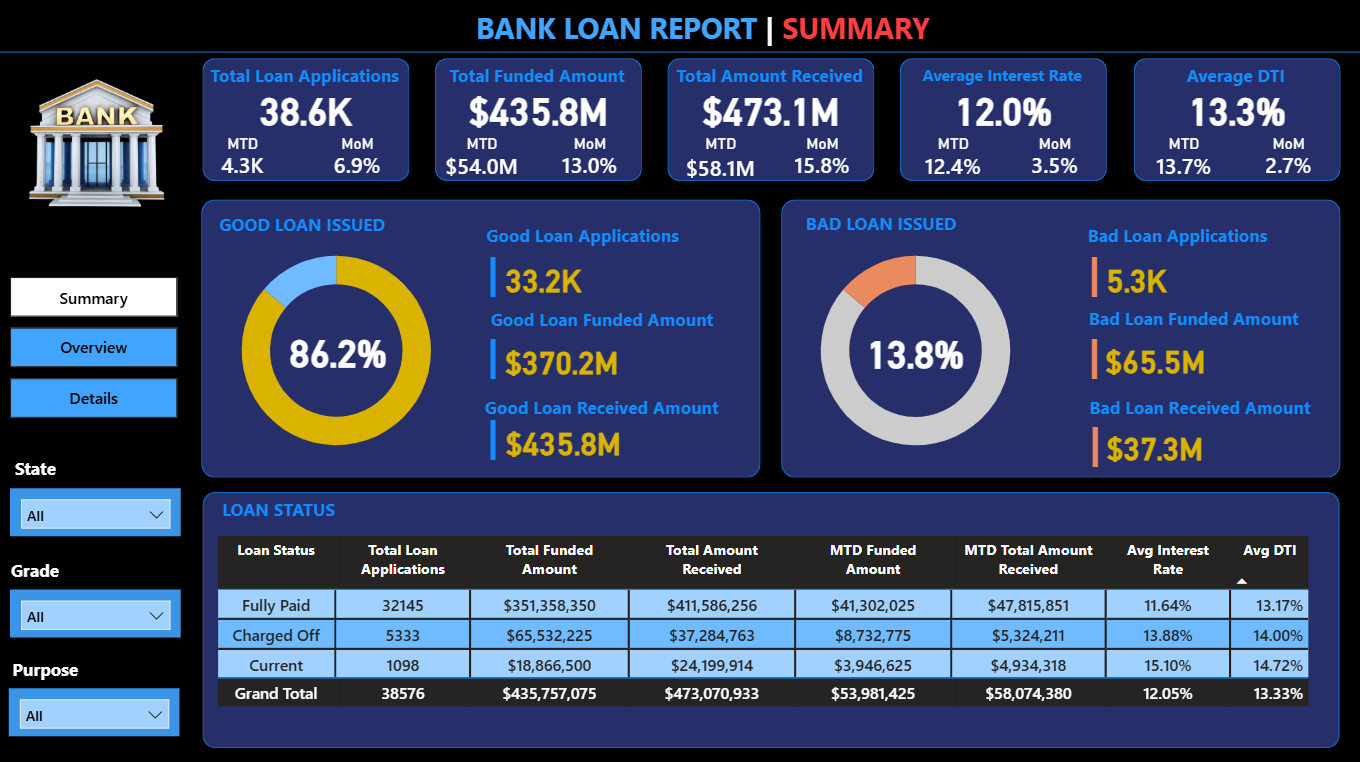

Layout of this report page (visuals, bound fields, positions):
{"tool":"powerbi","page":{"name":"Summary","canvas":[1280,720],"ordinal":0},"visuals":[{"type":"shape","box":[0,52.1,181.3,668.1],"z":0},{"type":"advanceCardE03760C5AB684758B56AA29F9E6C257B","fields":{"mainMeasure":["Bank_Loan_Data.Bad Loan Applications"]},"box":[1022.8,240.9,95.3,47],"z":0,"group":"g7"},{"type":"shape","box":[0,0,1280,51.9],"z":1000},{"type":"advanceCardE03760C5AB684758B56AA29F9E6C257B","fields":{"mainMeasure":["Bank_Loan_Data.Bad Loan Funded Amount"]},"box":[1020.4,314.5,137.5,50.7],"z":1000,"group":"g7"},{"type":"textbox","box":[427.1,6,466.9,45.8],"z":2000},{"type":"advanceCardE03760C5AB684758B56AA29F9E6C257B","fields":{"mainMeasure":["Bank_Loan_Data.Bad Loan Received Amount"]},"box":[1020.4,397.8,139.9,49.5],"z":2000,"group":"g7"},{"type":"group","id":"g1","title":"Group 1","box":[171.3,56.7,235.3,114.6],"z":3000},{"type":"textbox","box":[994.6,226,62.1,62.1],"z":3000,"group":"g7"},{"type":"group","id":"g2","title":"Group 1","box":[388.5,56.9,234.8,115.6],"z":4000},{"type":"textbox","box":[994.6,303,62.1,62.1],"z":4000,"group":"g7"},{"type":"group","id":"g3","title":"Group 1","box":[605.3,56.9,234.8,119.5],"z":5000},{"type":"textbox","box":[994.6,384.9,63.3,62.1],"z":5000,"group":"g7"},{"type":"group","id":"g4","title":"Group 1","box":[822,56.9,234.8,117.1],"z":6000},{"type":"textbox","box":[998.3,206.1,209.9,38.5],"z":6000,"group":"g7"},{"type":"shape","box":[193.6,57,193,114.6],"z":6500,"group":"g1"},{"type":"shape","box":[410.8,57.2,193,114.6],"z":6500,"group":"g2"},{"type":"shape","box":[627.6,57.2,193,114.6],"z":6500,"group":"g3"},{"type":"shape","box":[844.3,57.2,193,114.6],"z":6500,"group":"g4"},{"type":"shape","box":[1061.9,57.2,193,114.6],"z":6500,"group":"g5"},{"type":"card","fields":{"Values":["Bank_Loan_Data.Total Loan Applications"]},"box":[216.2,75.9,146.2,53.9],"z":6750,"group":"g1"},{"type":"card","fields":{"Values":["Bank_Loan_Data.Total Funded Amount"]},"box":[433.4,76.1,146.2,53.9],"z":6750,"group":"g2"},{"type":"card","fields":{"Values":["Bank_Loan_Data.Total Amount Received"]},"box":[650.2,76.1,146.2,53.9],"z":6750,"group":"g3"},{"type":"card","fields":{"Values":["Bank_Loan_Data.Avg Interest Rate"]},"box":[866.9,76.1,146.2,53.9],"z":6750,"group":"g4"},{"type":"card","fields":{"Values":["Bank_Loan_Data.Avg DTI"]},"box":[1084.5,76.1,146.2,53.9],"z":6750,"group":"g5"},{"type":"textbox","box":[171.3,56.7,234.8,37.2],"z":7000,"group":"g1"},{"type":"textbox","box":[388.5,56.9,234.8,37.2],"z":7000,"group":"g2"},{"type":"textbox","box":[605.3,56.9,234.8,37.2],"z":7000,"group":"g3"},{"type":"textbox","box":[822,56.9,234.8,37.2],"z":7000,"group":"g4"},{"type":"textbox","box":[1039.6,56.9,234.8,37.2],"z":7000,"group":"g5"},{"type":"shape","box":[192,189.3,521.6,259.5],"z":7000},{"type":"textbox","box":[1010.7,283.1,214.8,38.5],"z":7000,"group":"g7"},{"type":"card","title":"MoM","fields":{"Values":["Bank_Loan_Data.MoM Loan Applications"]},"box":[302.1,127.2,72.4,44.3],"z":7500,"group":"g1"},{"type":"card","title":"MoM","fields":{"Values":["Bank_Loan_Data.MoM Total Funded Amount"]},"box":[519.3,127.4,72.4,44.3],"z":7500,"group":"g2"},{"type":"card","title":"MoM","fields":{"Values":["Bank_Loan_Data.MoM Total Amount Received"]},"box":[736.1,127.4,72.4,44.3],"z":7500,"group":"g3"},{"type":"card","title":"MoM","fields":{"Values":["Bank_Loan_Data.MoM Avg Interest Rate"]},"box":[952.8,127.4,72.4,44.3],"z":7500,"group":"g4"},{"type":"card","title":"MoM","fields":{"Values":["Bank_Loan_Data.MoM Avg DTI"]},"box":[1170.4,127.4,72.4,44.3],"z":7500,"group":"g5"},{"type":"group","id":"g5","title":"Group 1","box":[1039.6,56.9,234.8,117.1],"z":8000},{"type":"card","title":"MTD","fields":{"Values":["Bank_Loan_Data.MTD Loan Applications"]},"box":[197.3,127.2,67.9,44.3],"z":8000,"group":"g1"},{"type":"card","title":"MTD","fields":{"Values":["Bank_Loan_Data.MTD Funded Amount"]},"box":[414.6,127.5,80.8,45],"z":8000,"group":"g2"},{"type":"card","title":"MTD","fields":{"Values":["Bank_Loan_Data.MTD Amount Received"]},"box":[636.3,128.2,80.8,48.3],"z":8000,"group":"g3"},{"type":"card","title":"MTD","fields":{"Values":["Bank_Loan_Data.MTD Avg Interest Rate"]},"box":[853.4,128.2,80.8,45.8],"z":8000,"group":"g4"},{"type":"card","title":"MTD","fields":{"Values":["Bank_Loan_Data.MTD Avg DTI"]},"box":[1065.4,128.2,86.9,45.8],"z":8000,"group":"g5"},{"type":"textbox","box":[1008.3,366.3,231,38.5],"z":8000,"group":"g7"},{"type":"shape","box":[733.5,189.3,521.6,259.5],"z":9000},{"type":"donutChart","fields":{"Category":["Bank_Loan_Data.Good vs Bad Loan"],"Y":["Bank_Loan_Data.Total Loan Applications"]},"box":[193.9,214.7,250,230.8],"z":10000},{"type":"card","fields":{"Values":["Bank_Loan_Data.Good Loan %"]},"box":[246.8,302.9,145.8,54.5],"z":11000},{"type":"textbox","box":[193.9,195.5,185.9,38.5],"z":12000},{"type":"donutChart","fields":{"Category":["Bank_Loan_Data.Good vs Bad Loan"],"Y":["Bank_Loan_Data.Total Loan Applications"]},"box":[733.9,214.8,250.8,231],"z":13000},{"type":"advanceCardE03760C5AB684758B56AA29F9E6C257B","fields":{"mainMeasure":["Bank_Loan_Data.Good Loan Applications"]},"box":[470.2,240.9,97.7,47],"z":13000,"group":"g6"},{"type":"textbox","box":[733.9,195,186.3,38.5],"z":14000},{"type":"advanceCardE03760C5AB684758B56AA29F9E6C257B","fields":{"mainMeasure":["Bank_Loan_Data.Good Loan Funded Amount"]},"box":[470.2,314.5,136.3,51.9],"z":14000,"group":"g6"},{"type":"card","fields":{"Values":["Bank_Loan_Data.Bad Loan %"]},"box":[786,303,145.3,54.6],"z":15000},{"type":"advanceCardE03760C5AB684758B56AA29F9E6C257B","fields":{"mainMeasure":["Bank_Loan_Data.Good Loan Received Amount"]},"box":[470.2,384.5,137.5,62.7],"z":15000,"group":"g6"},{"type":"group","id":"g6","title":"Group 2","box":[433.6,206.1,253.1,241.1],"z":16000},{"type":"textbox","box":[433.6,303.2,61.8,61.8],"z":16000,"group":"g6"},{"type":"textbox","box":[433.6,378.7,61.8,61.8],"z":17000,"group":"g6"},{"type":"shape","box":[193,462.1,1060.5,238.9],"z":17000},{"type":"group","id":"g7","title":"Group 3","box":[994.6,206.1,244.6,241.1],"z":18000},{"type":"textbox","box":[433.6,226.4,61.8,61.8],"z":18000,"group":"g6"},{"type":"textbox","box":[443.3,206.1,209.9,38.5],"z":19000,"group":"g6"},{"type":"tableEx","fields":{"Values":["Bank_Loan_Data.loan_status","Bank_Loan_Data.Total Loan Applications","Bank_Loan_Data.Total Funded Amount","Bank_Loan_Data.Total Amount Received","Bank_Loan_Data.MTD Funded Amount","Bank_Loan_Data.MTD Amount Received","Bank_Loan_Data.Avg Interest Rate","Bank_Loan_Data.Avg DTI"]},"box":[201.5,498.3,1037.5,187],"z":19000},{"type":"textbox","box":[449.5,284.3,232.2,38.5],"z":20000,"group":"g6"},{"type":"textbox","box":[199.9,461.9,130.4,38.5],"z":20000},{"type":"textbox","box":[445.8,366.3,240.9,38.5],"z":21000,"group":"g6"},{"type":"slicer","fields":{"Values":["Bank_Loan_Data.address_state"]},"box":[14.5,458.4,159.2,44.6],"z":21000},{"type":"textbox","box":[8.4,423.5,59.1,38.6],"z":22000},{"type":"slicer","fields":{"Values":["Bank_Loan_Data.grade"]},"box":[14.5,552.5,159.2,44.6],"z":23000},{"type":"textbox","box":[2.4,518.8,70,38.6],"z":24000},{"type":"slicer","fields":{"Values":["Bank_Loan_Data.purpose"]},"box":[13.3,644.2,159.2,44.6],"z":25000},{"type":"textbox","box":[3.6,610.5,86.9,38.6],"z":26000},{"type":"image","box":[0,51.9,187,176.1],"z":27000},{"type":"pageNavigator","box":[14.5,260.6,156.8,131.5],"z":28000}]}

Visuals, with their boxes in screenshot pixels (x1, y1, x2, y2), scaled from the page's 1280x720 canvas onto the 1360x762 screenshot:
shape: x1=0 y1=55 x2=193 y2=761
advanceCardE03760C5AB684758B56AA29F9E6C257B - Bank_Loan_Data.Bad Loan Applications: x1=1087 y1=255 x2=1188 y2=305
shape: x1=0 y1=0 x2=1359 y2=55
advanceCardE03760C5AB684758B56AA29F9E6C257B - Bank_Loan_Data.Bad Loan Funded Amount: x1=1084 y1=333 x2=1230 y2=387
textbox: x1=454 y1=6 x2=950 y2=55
advanceCardE03760C5AB684758B56AA29F9E6C257B - Bank_Loan_Data.Bad Loan Received Amount: x1=1084 y1=421 x2=1233 y2=473
"Group 1" group: x1=182 y1=60 x2=432 y2=181
textbox: x1=1057 y1=239 x2=1123 y2=305
"Group 1" group: x1=413 y1=60 x2=662 y2=183
textbox: x1=1057 y1=321 x2=1123 y2=386
"Group 1" group: x1=643 y1=60 x2=893 y2=187
textbox: x1=1057 y1=407 x2=1124 y2=473
"Group 1" group: x1=873 y1=60 x2=1123 y2=184
textbox: x1=1061 y1=218 x2=1284 y2=259
shape: x1=206 y1=60 x2=411 y2=182
shape: x1=436 y1=61 x2=642 y2=182
shape: x1=667 y1=61 x2=872 y2=182
shape: x1=897 y1=61 x2=1102 y2=182
shape: x1=1128 y1=61 x2=1333 y2=182
card - Bank_Loan_Data.Total Loan Applications: x1=230 y1=80 x2=385 y2=137
card - Bank_Loan_Data.Total Funded Amount: x1=460 y1=81 x2=616 y2=138
card - Bank_Loan_Data.Total Amount Received: x1=691 y1=81 x2=846 y2=138
card - Bank_Loan_Data.Avg Interest Rate: x1=921 y1=81 x2=1076 y2=138
card - Bank_Loan_Data.Avg DTI: x1=1152 y1=81 x2=1308 y2=138
textbox: x1=182 y1=60 x2=431 y2=99
textbox: x1=413 y1=60 x2=662 y2=100
textbox: x1=643 y1=60 x2=893 y2=100
textbox: x1=873 y1=60 x2=1123 y2=100
textbox: x1=1105 y1=60 x2=1354 y2=100
shape: x1=204 y1=200 x2=758 y2=475
textbox: x1=1074 y1=300 x2=1302 y2=340
"MoM" card: x1=321 y1=135 x2=398 y2=182
"MoM" card: x1=552 y1=135 x2=629 y2=182
"MoM" card: x1=782 y1=135 x2=859 y2=182
"MoM" card: x1=1012 y1=135 x2=1089 y2=182
"MoM" card: x1=1244 y1=135 x2=1320 y2=182
"Group 1" group: x1=1105 y1=60 x2=1354 y2=184
"MTD" card: x1=210 y1=135 x2=282 y2=182
"MTD" card: x1=441 y1=135 x2=526 y2=183
"MTD" card: x1=676 y1=136 x2=762 y2=187
"MTD" card: x1=907 y1=136 x2=993 y2=184
"MTD" card: x1=1132 y1=136 x2=1224 y2=184
textbox: x1=1071 y1=388 x2=1317 y2=428
shape: x1=779 y1=200 x2=1334 y2=475
donutChart - Bank_Loan_Data.Good vs Bad Loan x Bank_Loan_Data.Total Loan Applications: x1=206 y1=227 x2=472 y2=471
card - Bank_Loan_Data.Good Loan %: x1=262 y1=321 x2=417 y2=378
textbox: x1=206 y1=207 x2=404 y2=248
donutChart - Bank_Loan_Data.Good vs Bad Loan x Bank_Loan_Data.Total Loan Applications: x1=780 y1=227 x2=1046 y2=472
advanceCardE03760C5AB684758B56AA29F9E6C257B - Bank_Loan_Data.Good Loan Applications: x1=500 y1=255 x2=603 y2=305
textbox: x1=780 y1=206 x2=978 y2=247
advanceCardE03760C5AB684758B56AA29F9E6C257B - Bank_Loan_Data.Good Loan Funded Amount: x1=500 y1=333 x2=644 y2=388
card - Bank_Loan_Data.Bad Loan %: x1=835 y1=321 x2=990 y2=378
advanceCardE03760C5AB684758B56AA29F9E6C257B - Bank_Loan_Data.Good Loan Received Amount: x1=500 y1=407 x2=646 y2=473
"Group 2" group: x1=461 y1=218 x2=730 y2=473
textbox: x1=461 y1=321 x2=526 y2=386
textbox: x1=461 y1=401 x2=526 y2=466
shape: x1=205 y1=489 x2=1332 y2=742
"Group 3" group: x1=1057 y1=218 x2=1317 y2=473
textbox: x1=461 y1=240 x2=526 y2=305
textbox: x1=471 y1=218 x2=694 y2=259
tableEx - Bank_Loan_Data.loan_status x Bank_Loan_Data.Total Loan Applications: x1=214 y1=527 x2=1316 y2=725
textbox: x1=478 y1=301 x2=724 y2=342
textbox: x1=212 y1=489 x2=351 y2=530
textbox: x1=474 y1=388 x2=730 y2=428
slicer - Bank_Loan_Data.address_state: x1=15 y1=485 x2=185 y2=532
textbox: x1=9 y1=448 x2=72 y2=489
slicer - Bank_Loan_Data.grade: x1=15 y1=585 x2=185 y2=632
textbox: x1=3 y1=549 x2=77 y2=590
slicer - Bank_Loan_Data.purpose: x1=14 y1=682 x2=183 y2=729
textbox: x1=4 y1=646 x2=96 y2=687
image: x1=0 y1=55 x2=199 y2=241
pageNavigator: x1=15 y1=276 x2=182 y2=415
